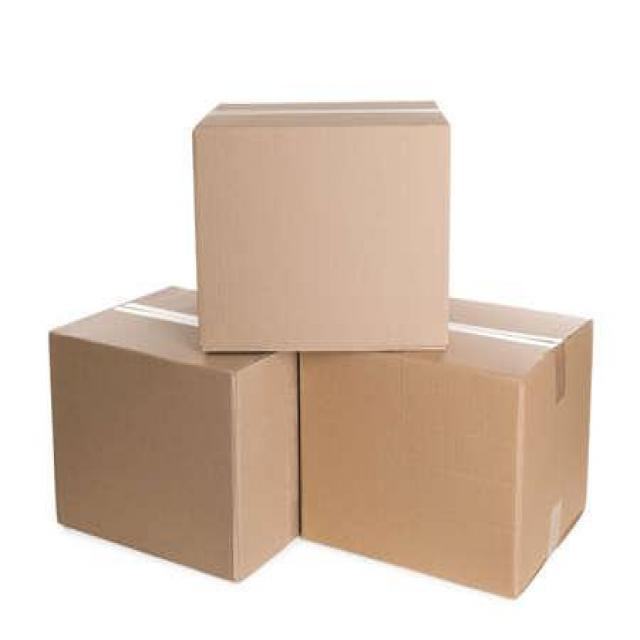box: (296, 294, 598, 602), (42, 281, 302, 584), (189, 98, 457, 354)
